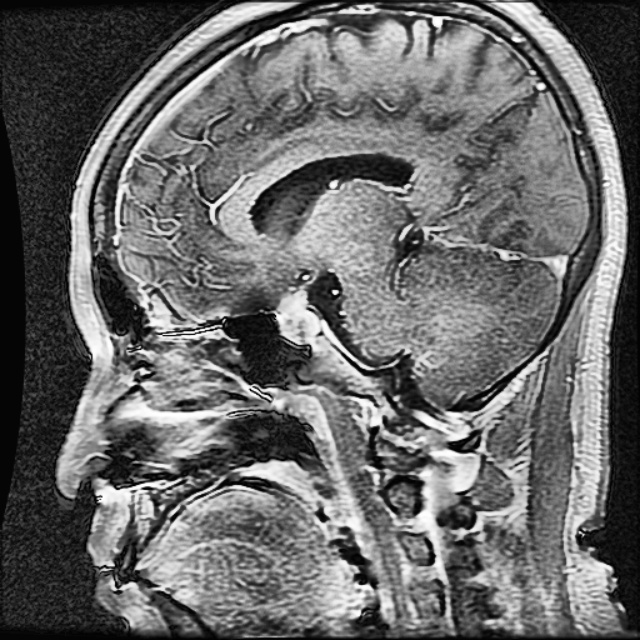Pituitary: (277, 292, 319, 344)
